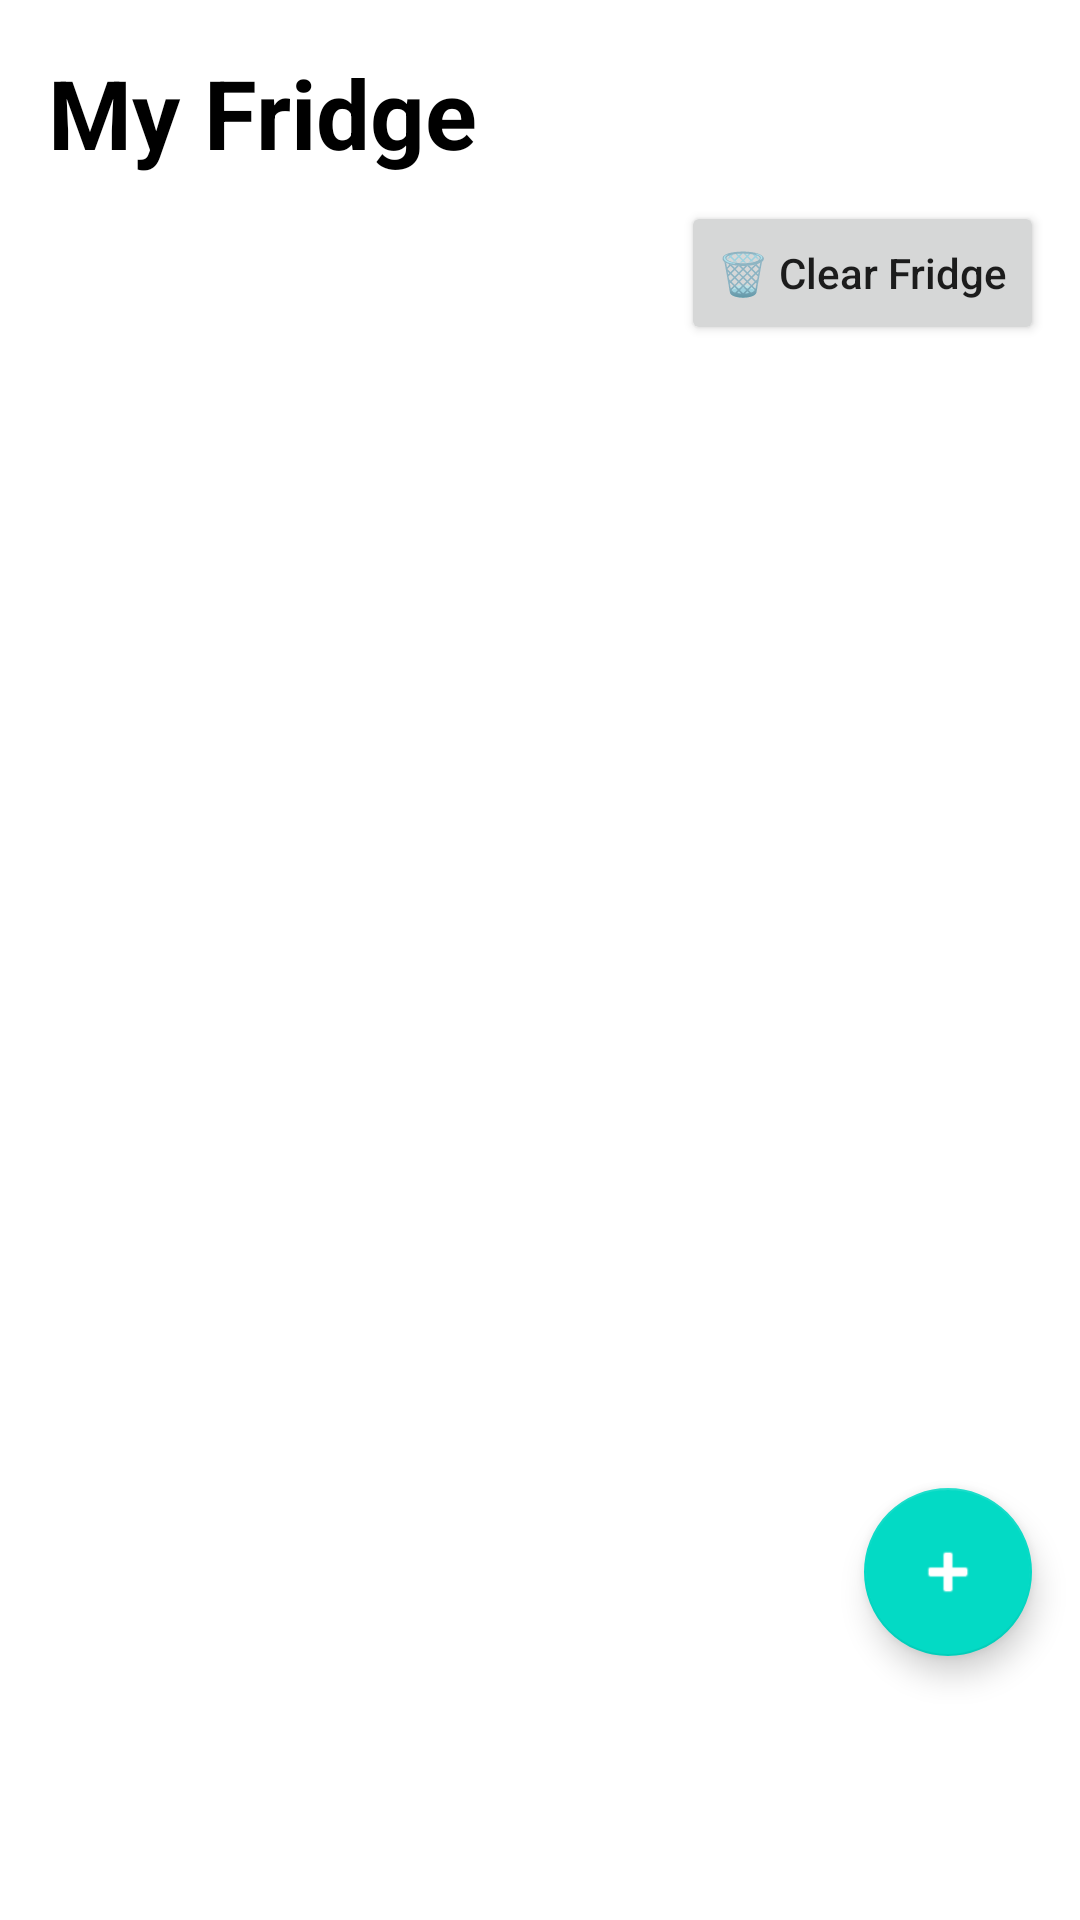

Icon click points for this 1080px×1920px phone screenshot, format (x=x, y=y):
Add Ingredient: (x=948, y=1572)
